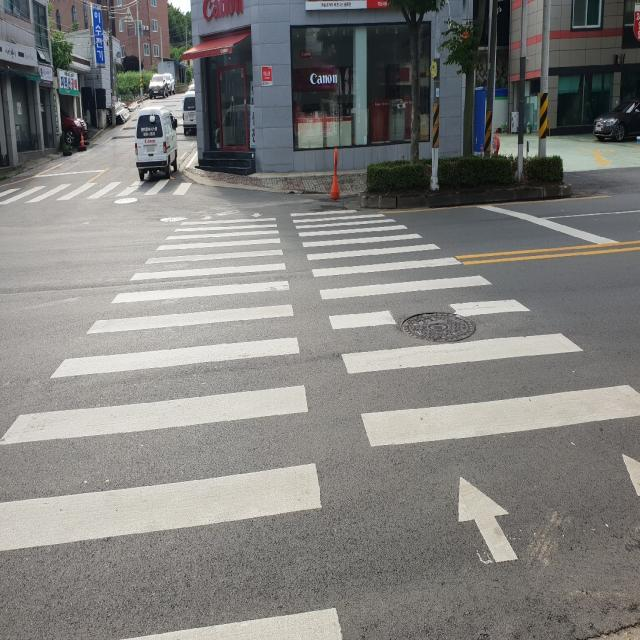횡단보도: (0, 204, 640, 640), (1, 173, 194, 200)
